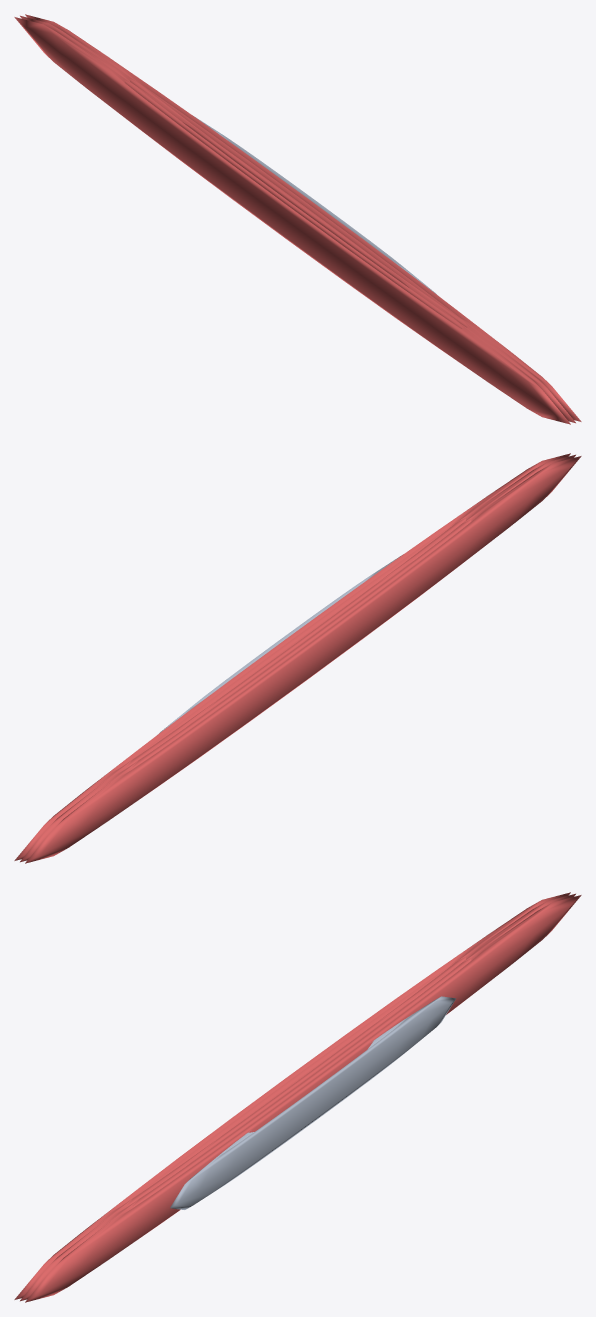
File: dog_leash.glb
The picture shows the model from 3 angles, top to bottom: view 1: azimuth 30°, elevation 25°; view 2: azimuth 150°, elevation 25°; view 3: azimuth 330°, elevation 25°; orthographic projection.
Visible parts, largest first — view 1: model; view 2: model; view 3: model.
Boxes of the visible parts, left/top/right/bottom form: model: left=14, top=14, right=581, bottom=424; model: left=14, top=453, right=581, bottom=863; model: left=14, top=892, right=581, bottom=1302.
Size of the model in its own units: 0.03 by 0.03 by 0.85.
